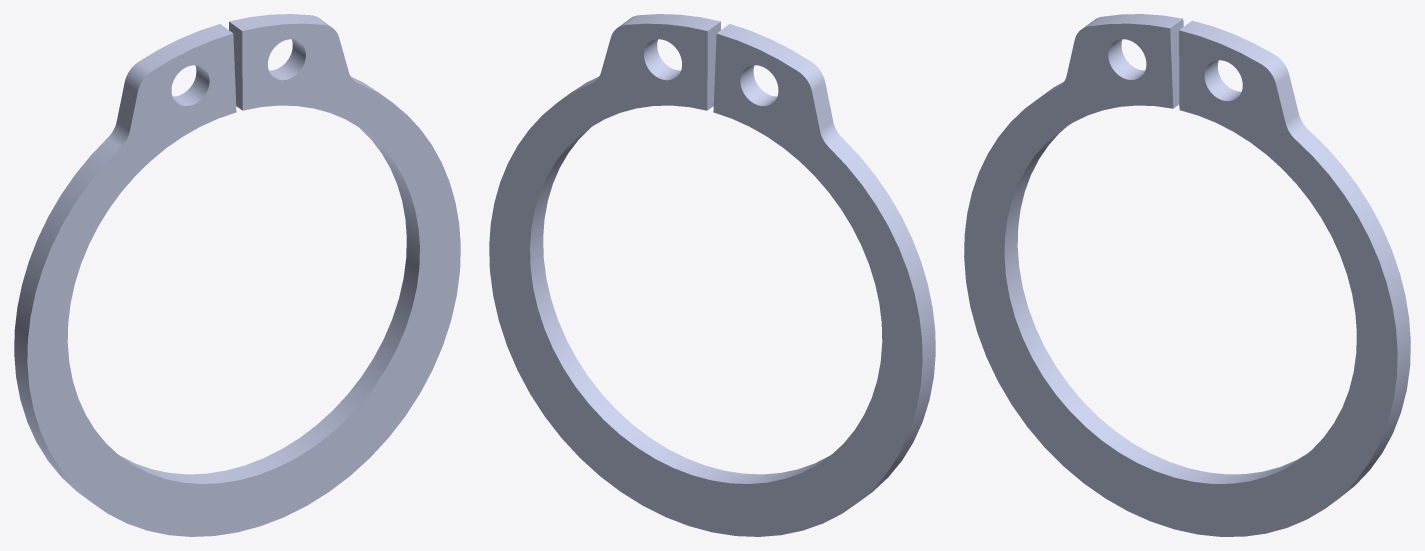
Rendered from SNAP_RING_20MM_1_solid1.obj.
The picture shows the model from 3 angles, left to right: view 1: azimuth 30°, elevation 25°; view 2: azimuth 150°, elevation 25°; view 3: azimuth 330°, elevation 25°; orthographic projection.
Visible parts, largest first — view 1: mesh23596, mesh23610, mesh23604, mesh23606, mesh23611, mesh23608, mesh23602, mesh23601, mesh23594, mesh23605, mesh23614; view 2: mesh23595, mesh23610, mesh23604, mesh23606, mesh23611, mesh23608, mesh23602, mesh23601, mesh23594, mesh23605, mesh23614; view 3: mesh23596, mesh23610, mesh23612, mesh23611, mesh23602, mesh23609, mesh23606, mesh23607, mesh23603, mesh23614, mesh23594.
Part boxes in pixels (box(x1,y1,x2,y2)): mesh23596: box(27, 23, 460, 536); mesh23610: box(118, 238, 419, 483); mesh23604: box(14, 138, 120, 361); mesh23606: box(139, 24, 232, 70); mesh23611: box(14, 353, 89, 500); mesh23608: box(358, 127, 419, 246); mesh23602: box(229, 14, 323, 30); mesh23601: box(229, 22, 242, 110); mesh23594: box(269, 45, 305, 80); mesh23605: box(117, 82, 137, 130); mesh23614: box(173, 71, 209, 105); mesh23595: box(489, 23, 922, 536); mesh23610: box(530, 238, 831, 483); mesh23604: box(829, 138, 935, 361); mesh23606: box(717, 24, 810, 70); mesh23611: box(860, 353, 935, 500); mesh23608: box(530, 127, 591, 246); mesh23602: box(626, 14, 720, 30); mesh23601: box(707, 22, 720, 110); mesh23594: box(644, 45, 680, 80); mesh23605: box(812, 82, 832, 130); mesh23614: box(740, 71, 776, 105); mesh23596: box(964, 23, 1397, 536); mesh23610: box(1004, 247, 1304, 483); mesh23612: box(1296, 130, 1410, 351); mesh23611: box(1326, 342, 1410, 507); mesh23602: box(1179, 20, 1273, 63); mesh23609: box(1004, 127, 1065, 255); mesh23606: box(1089, 14, 1182, 28); mesh23607: box(1170, 19, 1183, 108); mesh23603: box(1276, 74, 1298, 122); mesh23614: box(1108, 46, 1145, 79); mesh23594: box(1204, 67, 1241, 101).
Bounding box in the file's own units: 0.0228 × 0.0251 × 0.0012.
